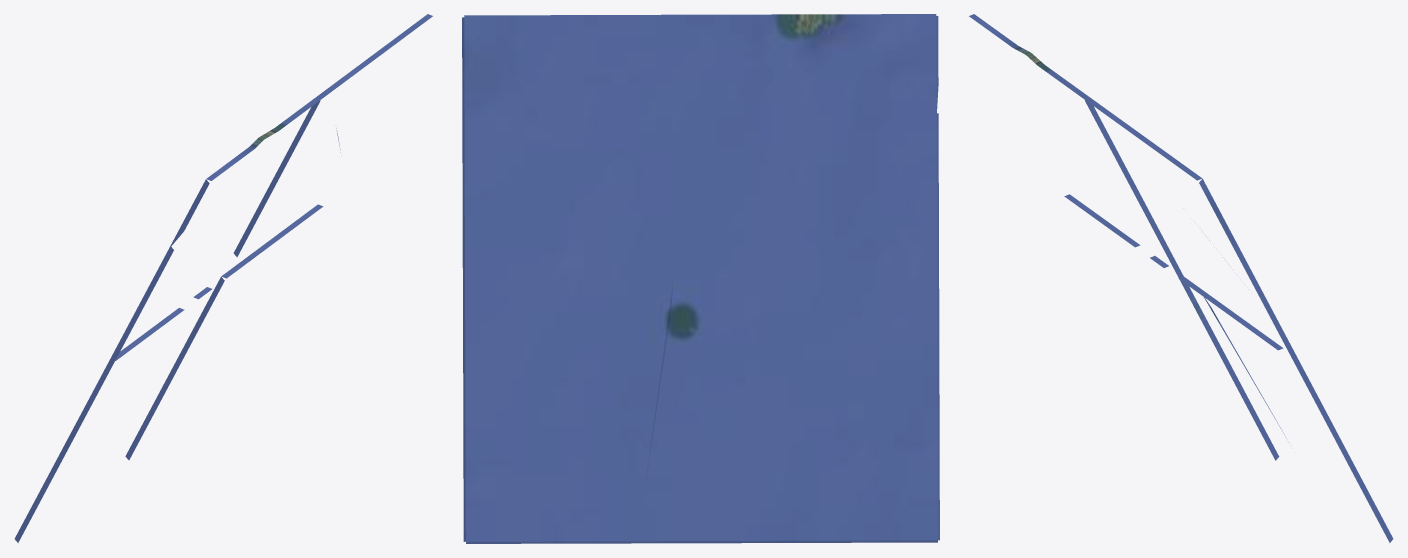
3 renders of one model, left to right at view 1: azimuth 30°, elevation 25°; view 2: azimuth 150°, elevation 25°; view 3: azimuth 270°, elevation 25°, orthographic. The views are drawn at different scales.
Bounding box in the file's own units: 39534 × 35593 × 33224.
Materials: 1 (1 with a texture image).
